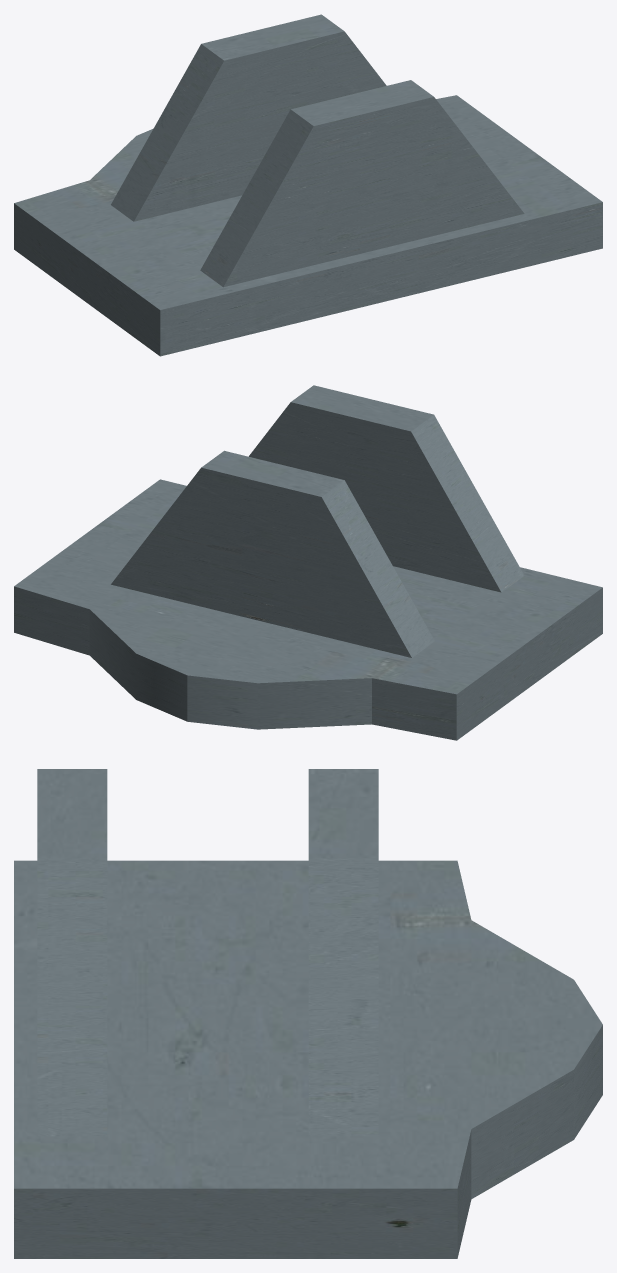
The model's file is Switcher_Base.FBX.
3 renders of one model, top to bottom at view 1: azimuth 30°, elevation 25°; view 2: azimuth 150°, elevation 25°; view 3: azimuth 270°, elevation 25°, orthographic. The views are drawn at different scales.
Parts seen in each view (by area): view 1: Switcher_Base; view 2: Switcher_Base; view 3: Switcher_Base.
Part boxes in pixels (<box>): Switcher_Base: <box>14,14,602,356</box>; Switcher_Base: <box>14,385,602,740</box>; Switcher_Base: <box>14,769,602,1258</box>.
Bounding box in the file's own units: 40 × 30.37 × 16.
